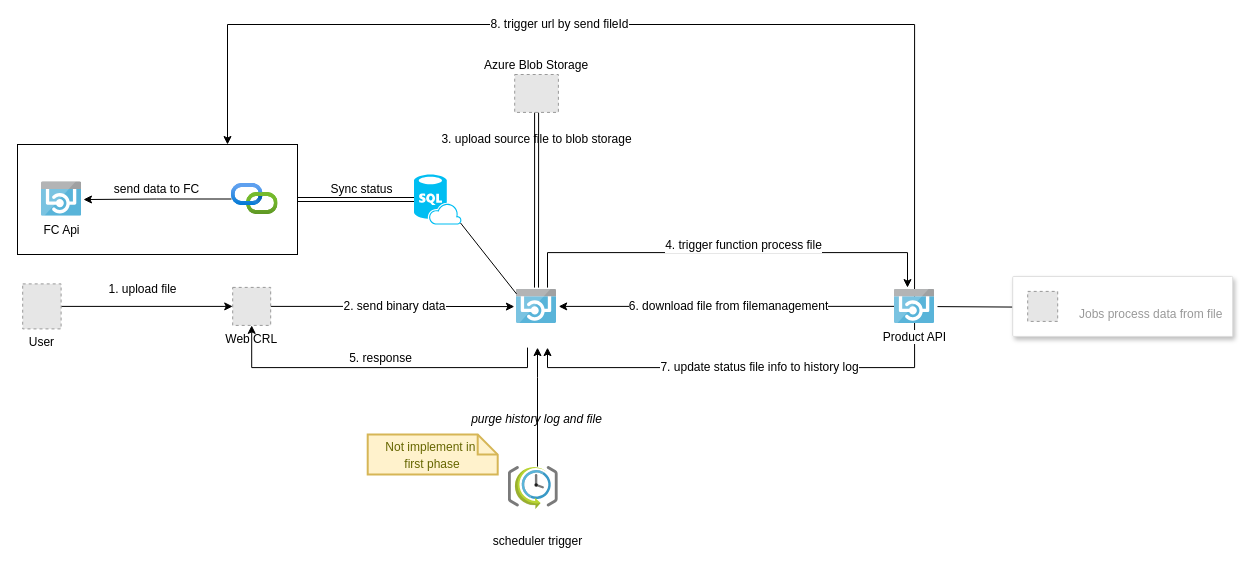
Some shapes in this 1257 by 574 pixel diagram are drawn without their labels. Grey dashed boxes stand in for pictures. Each missing label, with the centre of its shape:
Data Team: the point at 254,198
FileManagement API: the point at 536,306
Hangfire: the point at 533,487
